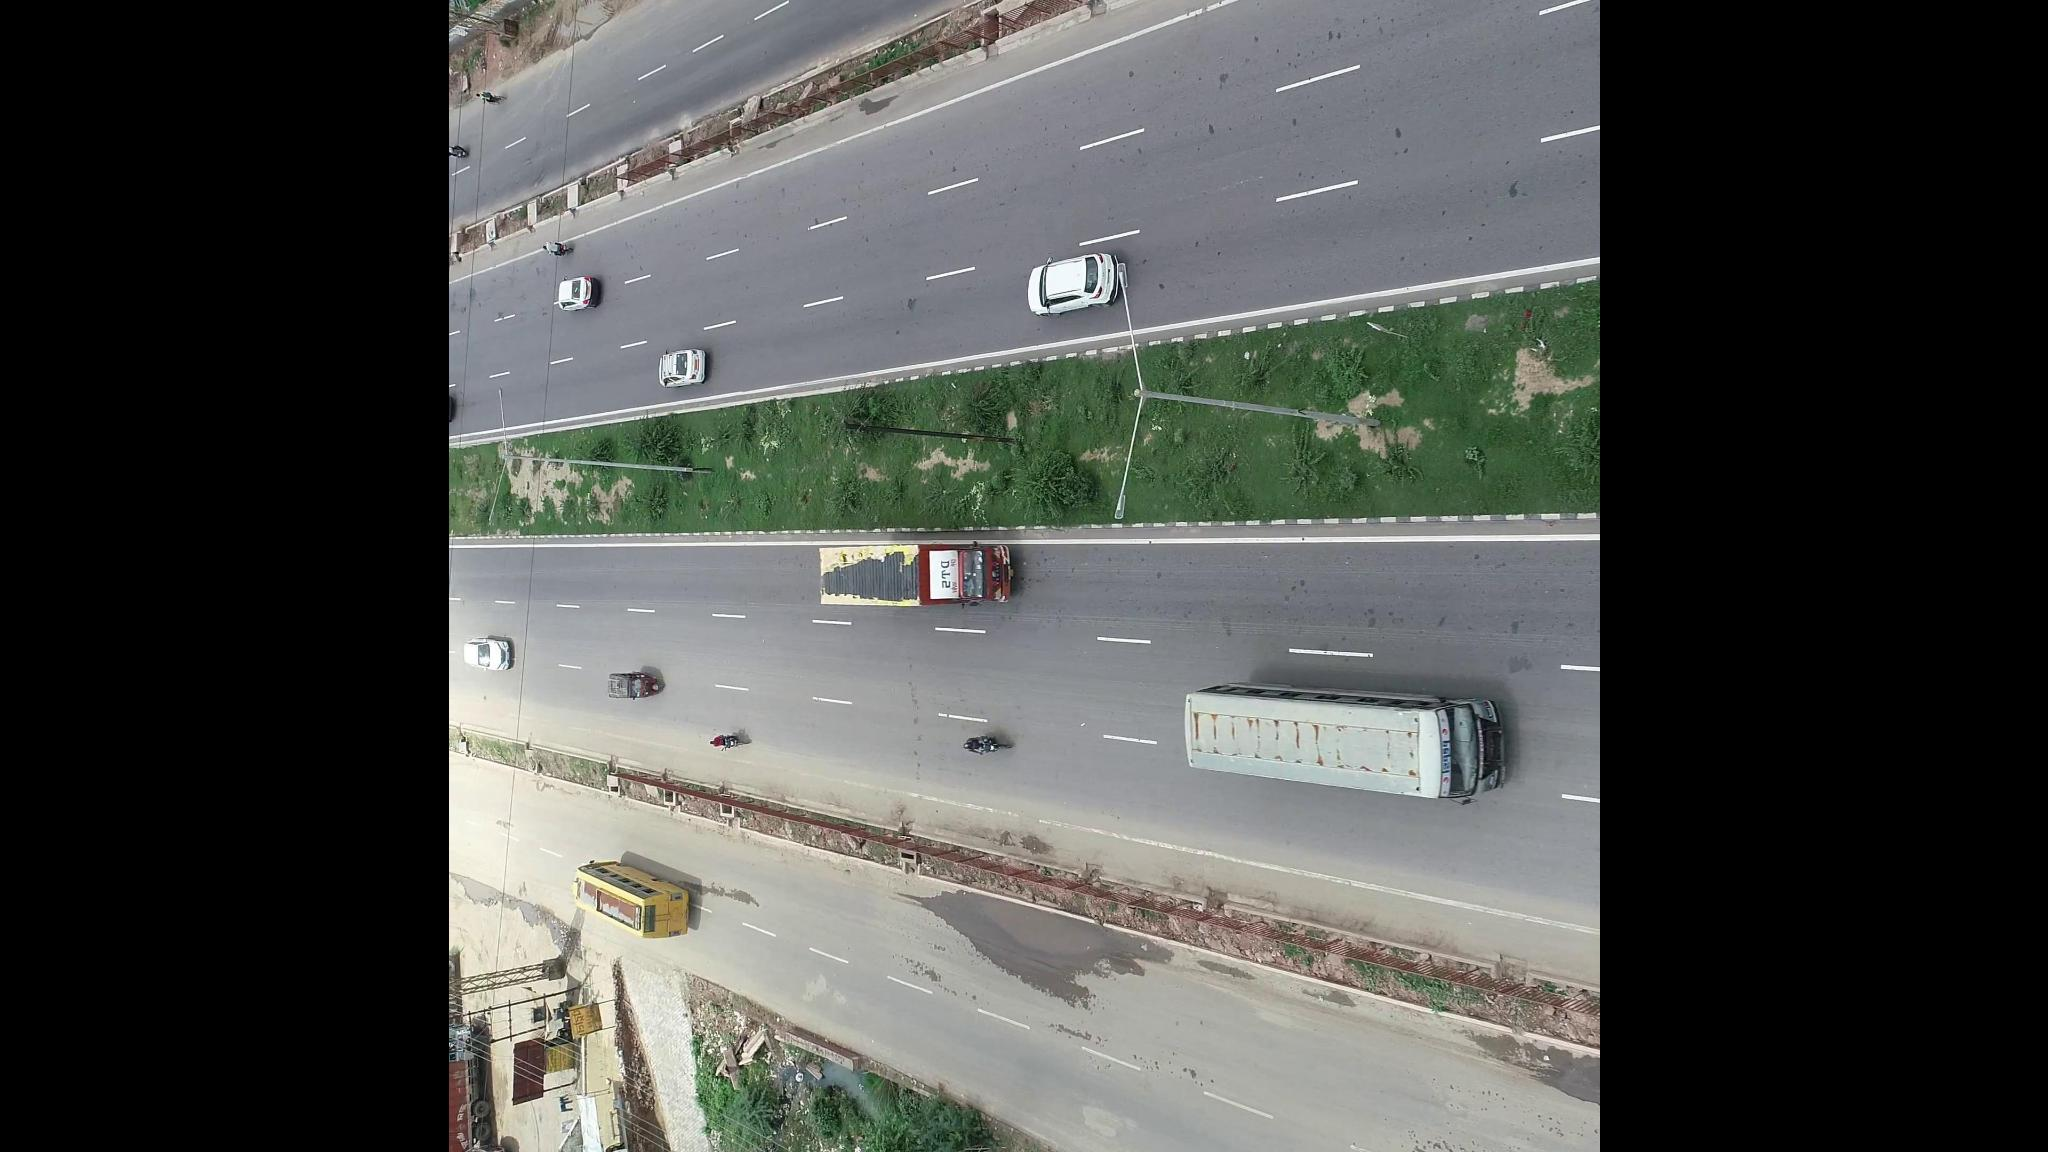Waterlogging: (972, 909, 1122, 973)
